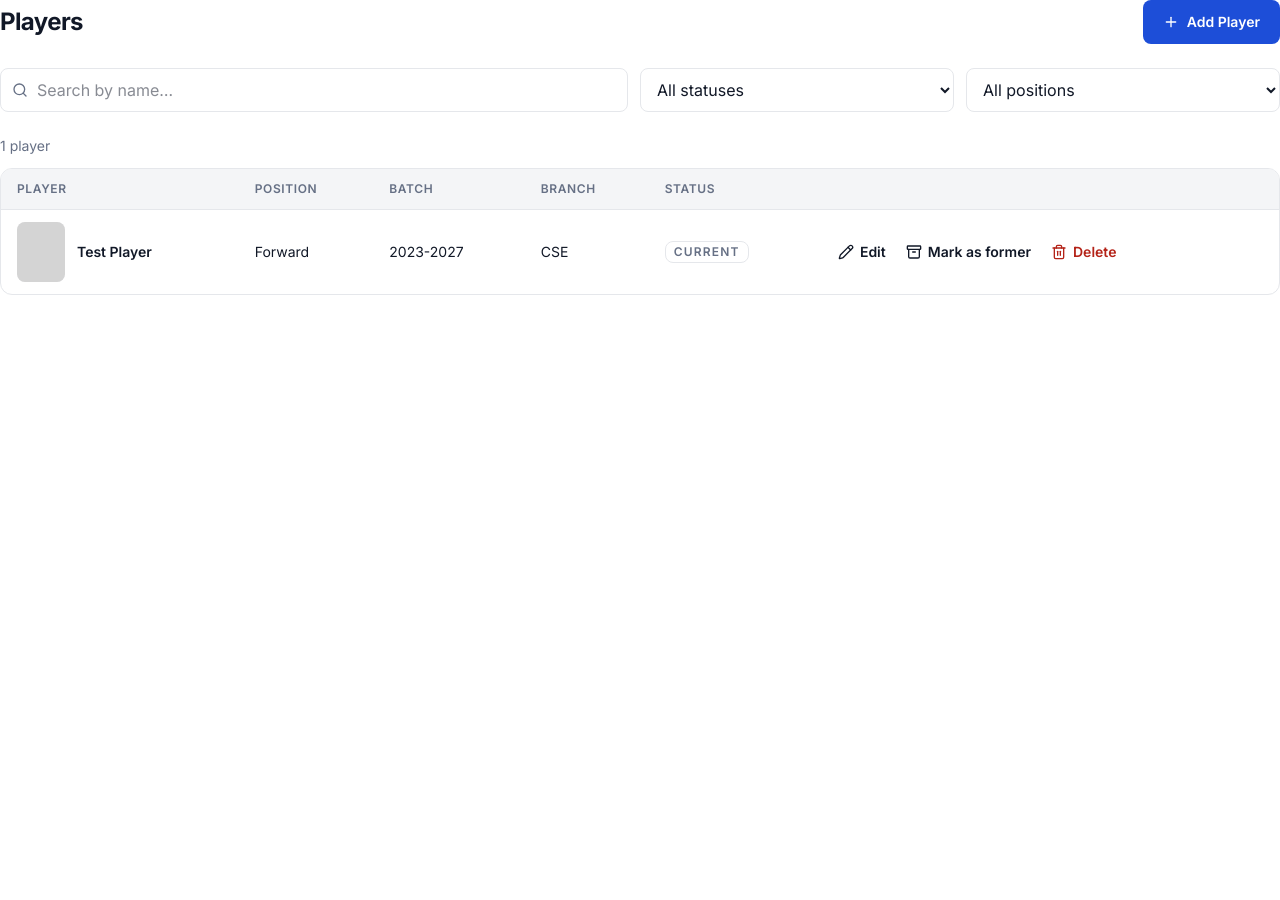
Test case: AdminPlayers › marks a player as former after confirmation
Expected: the table named "Players" is shown, [1,169,1279,294]
What coordinates should you click on to do the following:
click the button with aria-label "Mark Test Player as former"
I would click on:
 (968, 252)
Its box is [898,230,1039,274].
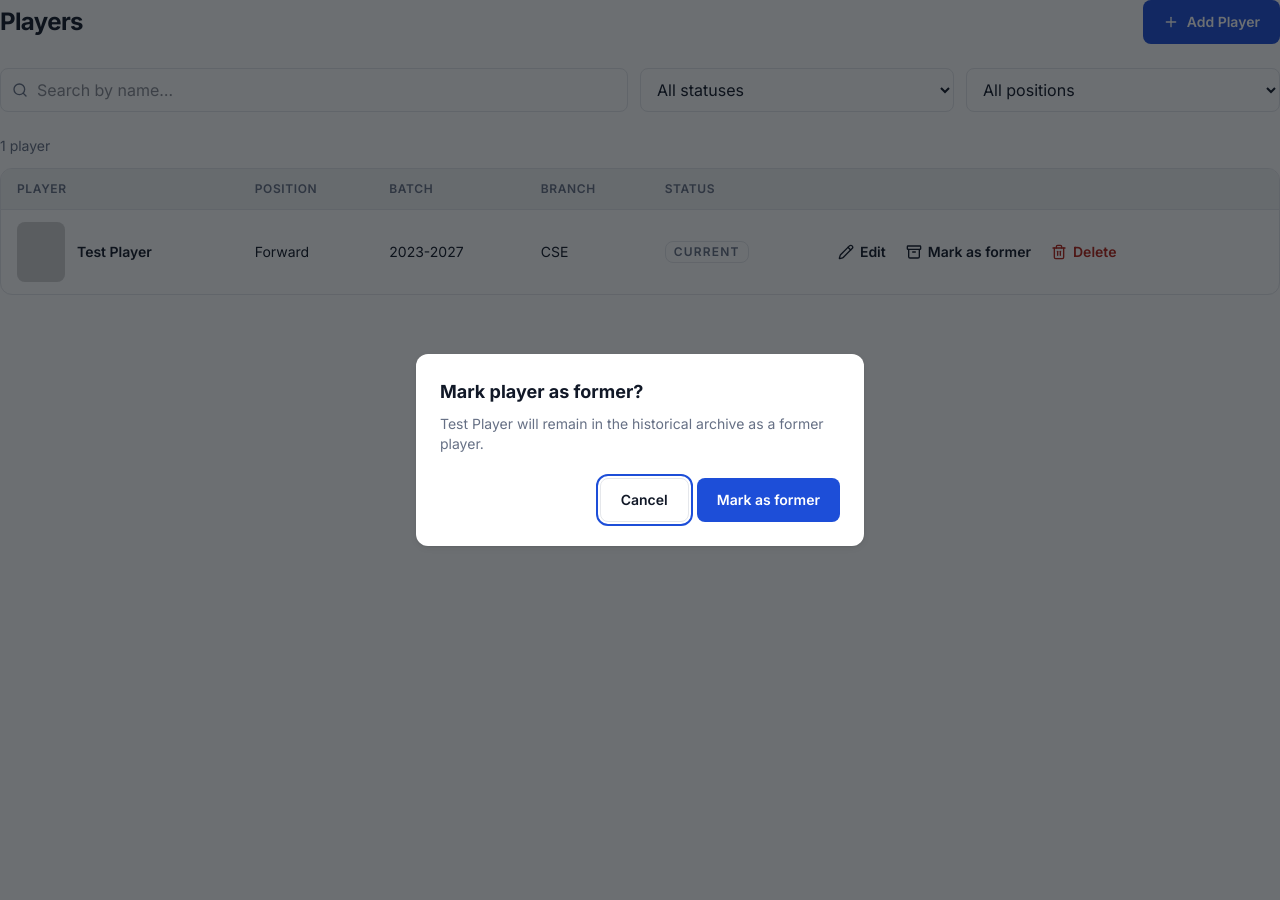
Now the dialog "Mark player as former?" shows "will remain in the historical archive", box [440,415,824,452]
What coordinates should you click on to do the following:
click the button "Mark as former"
I would click on:
 (768, 500)
Its box is [697,478,840,522].
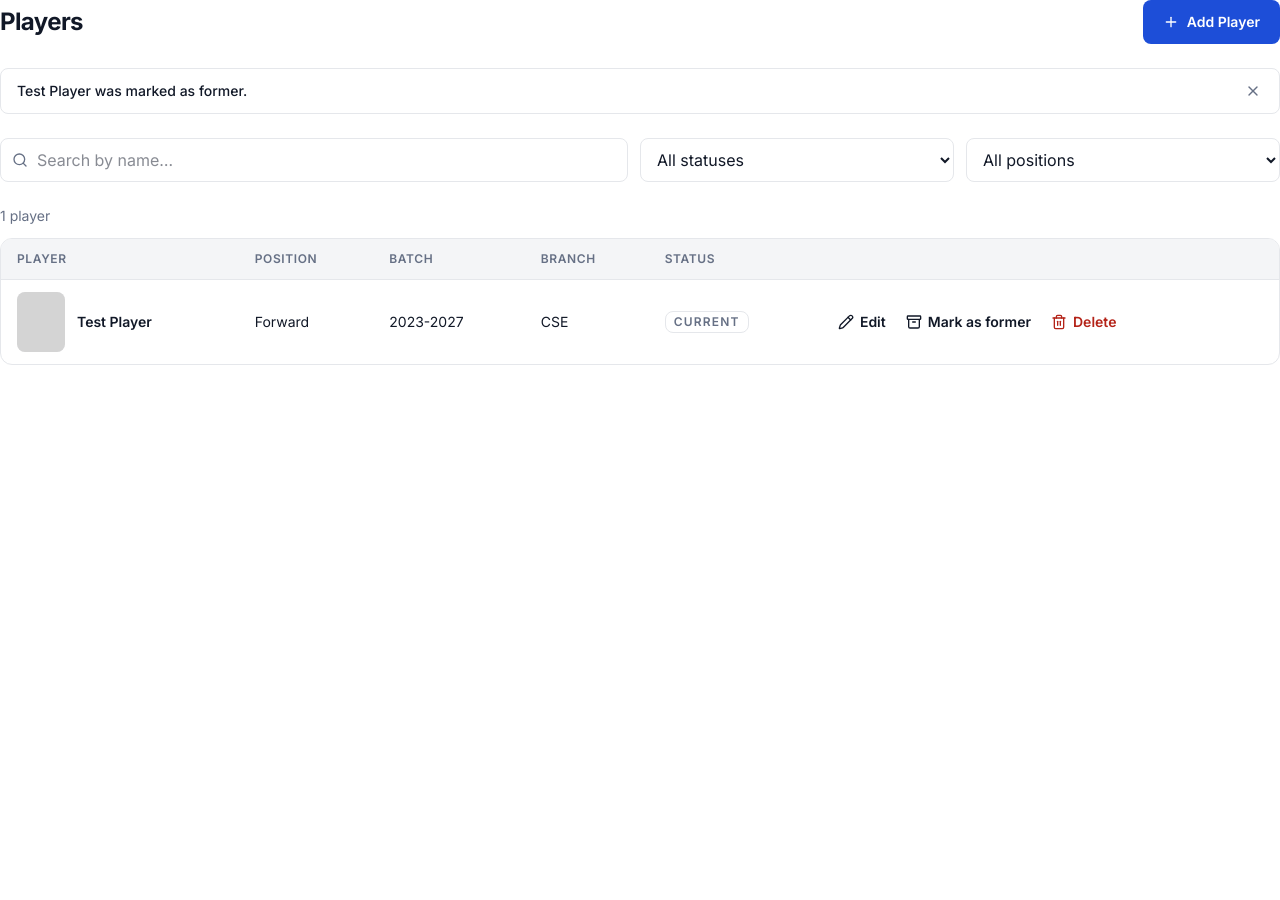
Now the message reads "Test Player was marked as former.", box [17,82,247,99]
